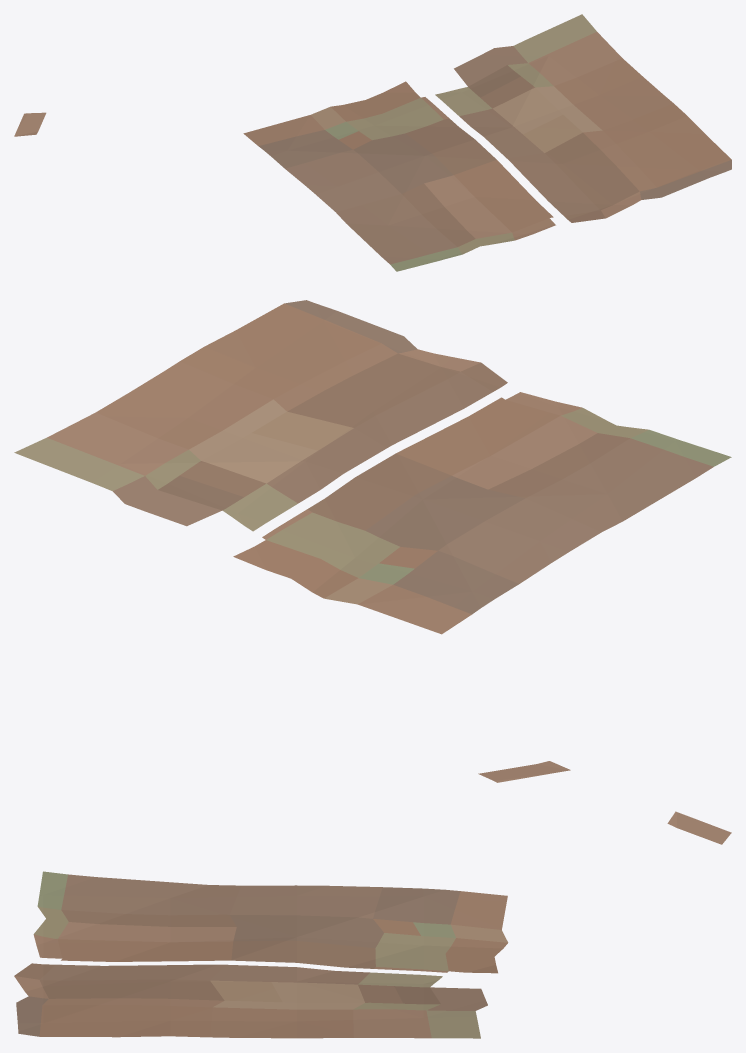
The model's file is farm_-31_-31_soil.glb.
The picture shows the model from 3 angles, top to bottom: view 1: azimuth 30°, elevation 25°; view 2: azimuth 150°, elevation 25°; view 3: azimuth 270°, elevation 25°; orthographic projection. The views are drawn at different scales.
Visible parts, largest first — view 1: geometry_0; view 2: geometry_0; view 3: geometry_0.
Boxes of the visible parts, x1,y1,x2,y2 form: geometry_0: [14, 14, 731, 271]; geometry_0: [14, 300, 731, 782]; geometry_0: [14, 811, 731, 1038].
Bounding box in the file's own units: 451 × 53.67 × 453.
